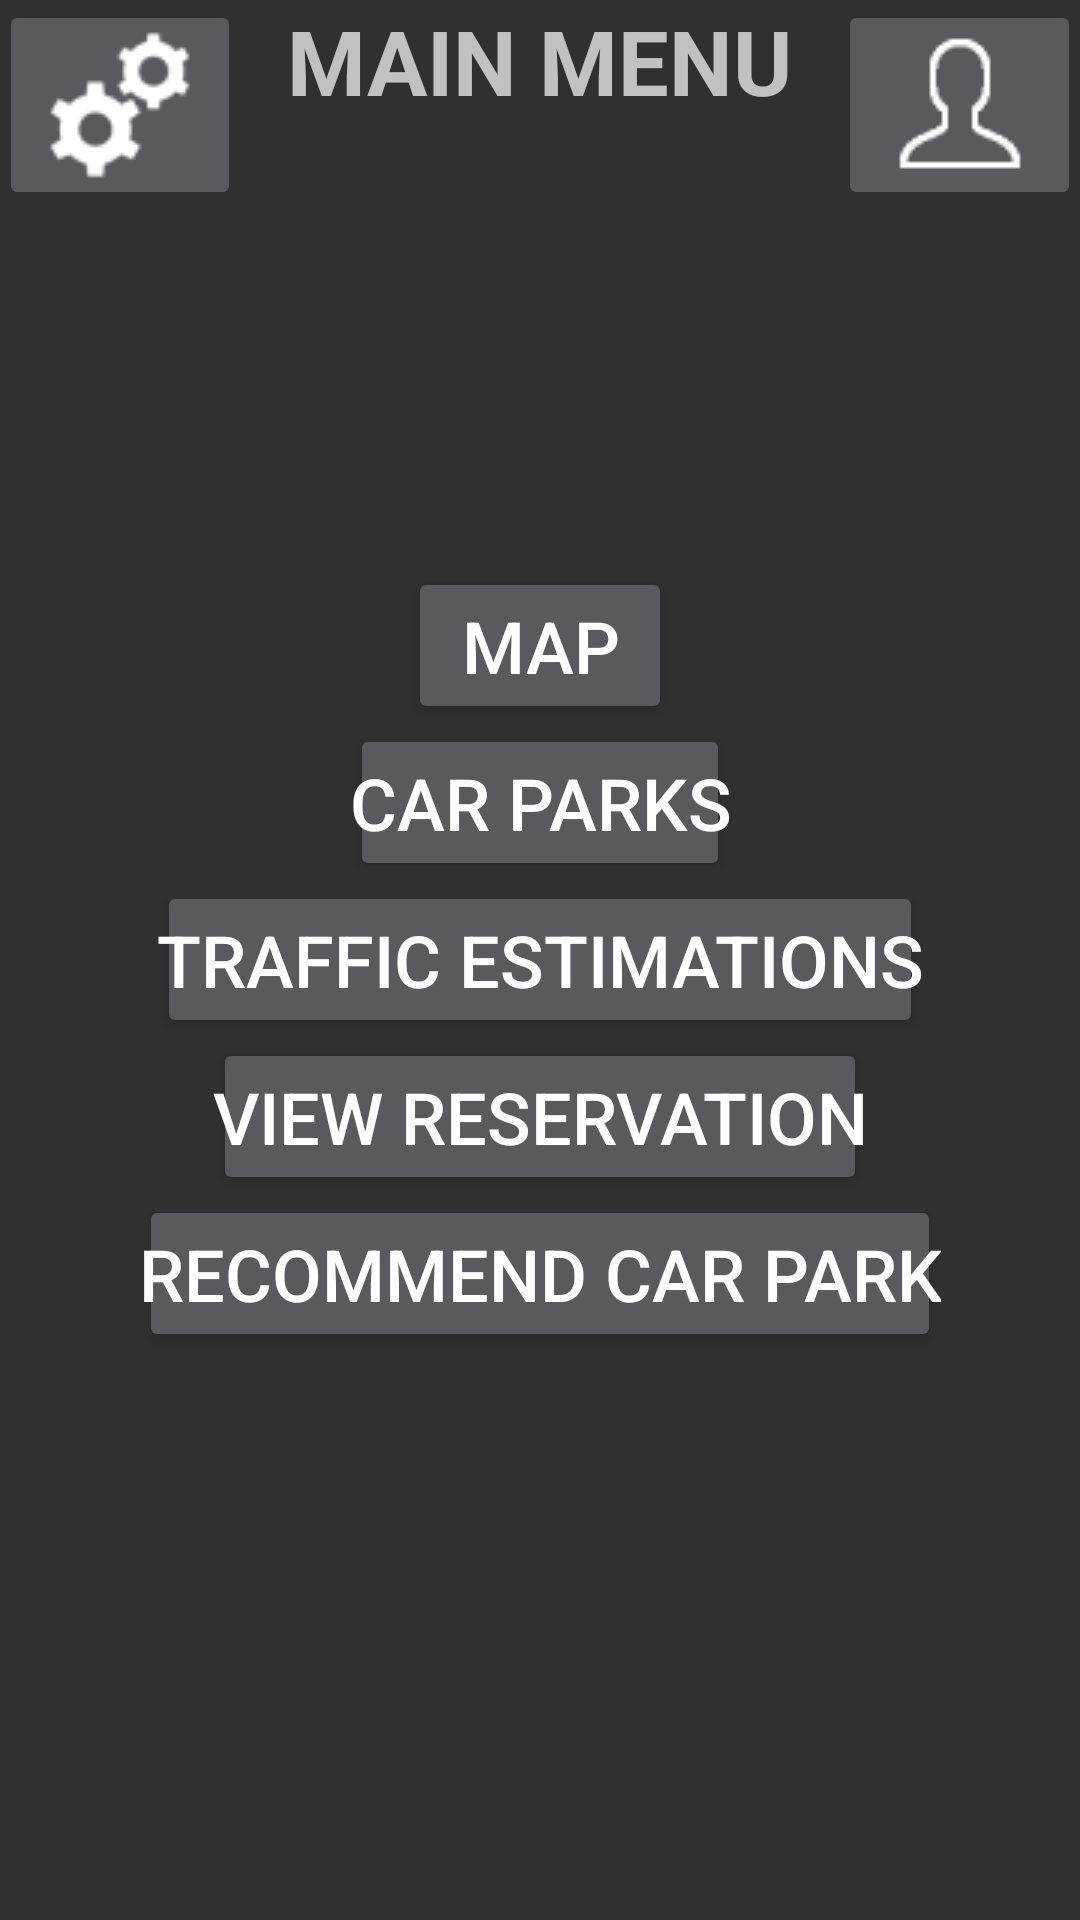

Icons on this 1080px x 1920px Android screen, each with the point to tap as (x=x, y=y):
Go to login: (x=959, y=105)
Go to options: (x=120, y=105)
